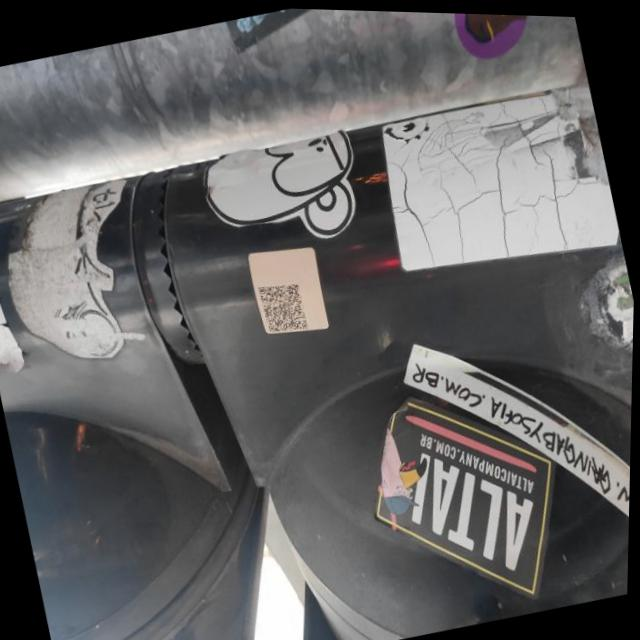qrcode: (259, 276, 310, 335)
